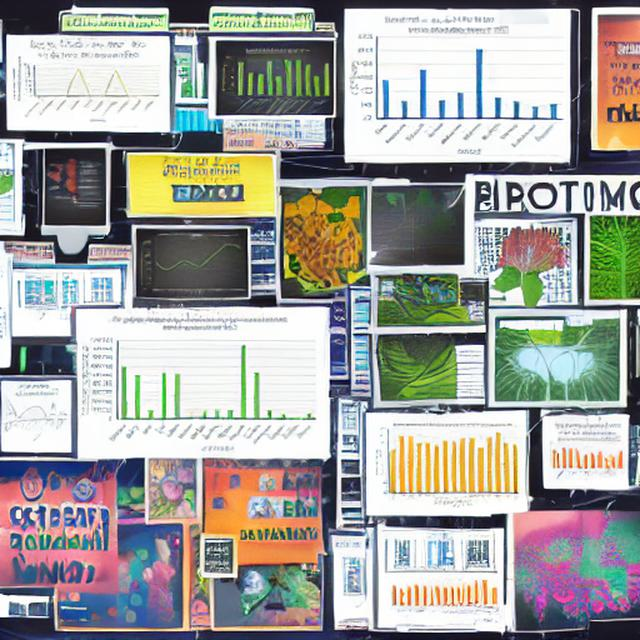Graph: (79, 312, 322, 455), (348, 24, 567, 156), (371, 418, 524, 508), (14, 38, 163, 128), (219, 47, 334, 116), (139, 232, 248, 297), (542, 436, 626, 483), (1, 391, 70, 437)
